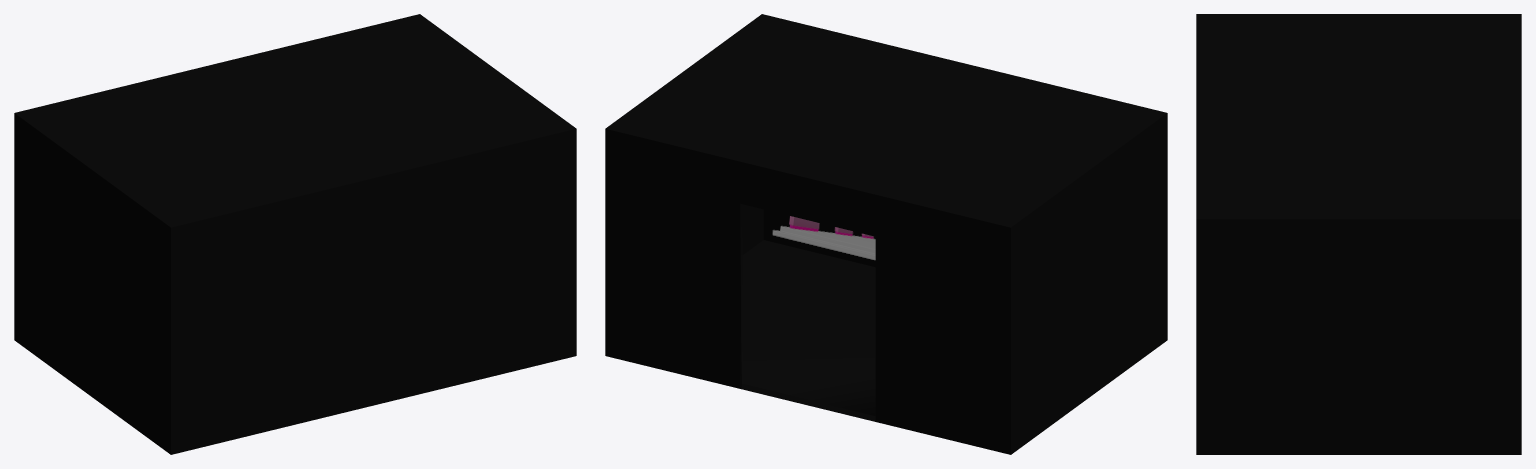
File: cubonero.gltf
3 views of the same model, side by side, from view 1: azimuth 30°, elevation 25°; view 2: azimuth 150°, elevation 25°; view 3: azimuth 270°, elevation 25° (orthographic). The views are drawn at different scales.
Visible parts, largest first — view 1: Box013; view 2: Box013; view 3: Box013.
Boxes of the visible parts, x1,y1,x2,y2 form: Box013: (14,14,576,454); Box013: (605,14,1167,454); Box013: (1196,14,1521,454).
Bounding box in the file's own units: 8.62 × 4.61 × 5.77.
1 material, 1 textured.
